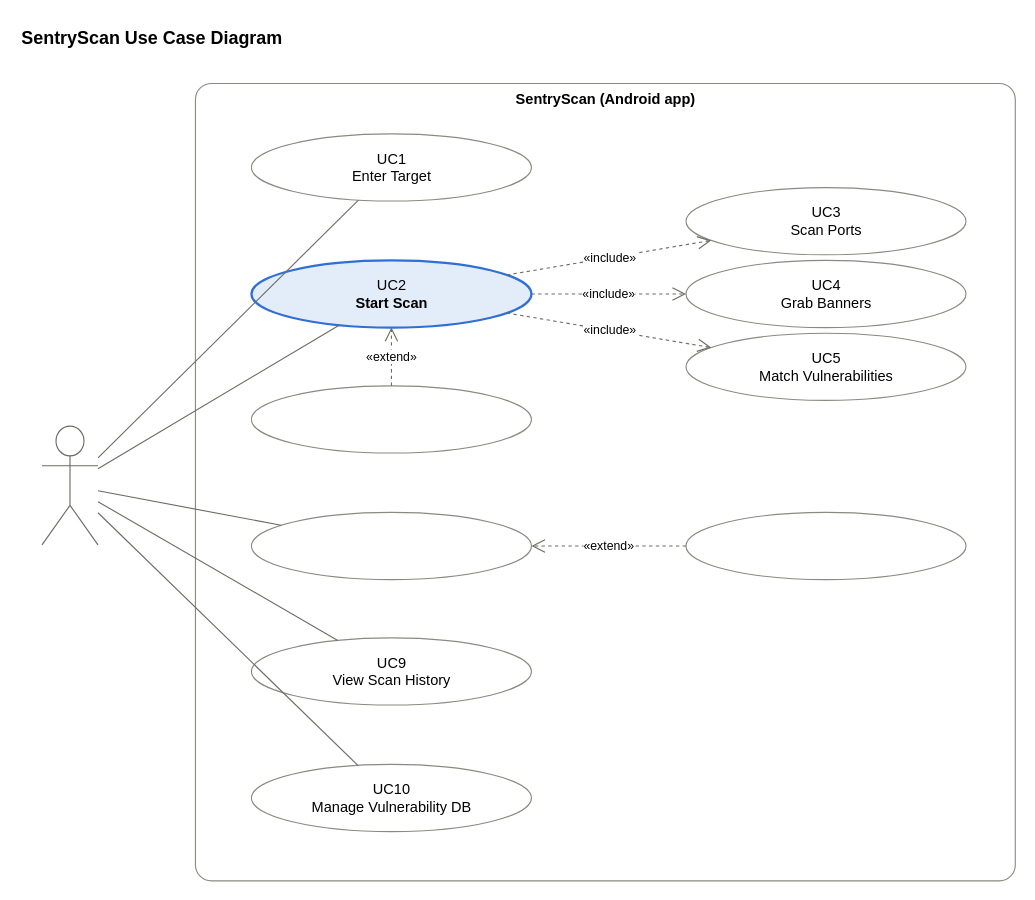
Image size: 1035x900. Some labels were removed from this diagram. The shapes that lost their labels are listed below. From the top down, each one's centre as x and y in pixels, then its label:
At point (390, 419): "UC6 View Live Progress".
At point (69, 485): "User".
At point (390, 545): "UC7 View Results".
At point (825, 545): "UC8 Export Report".
